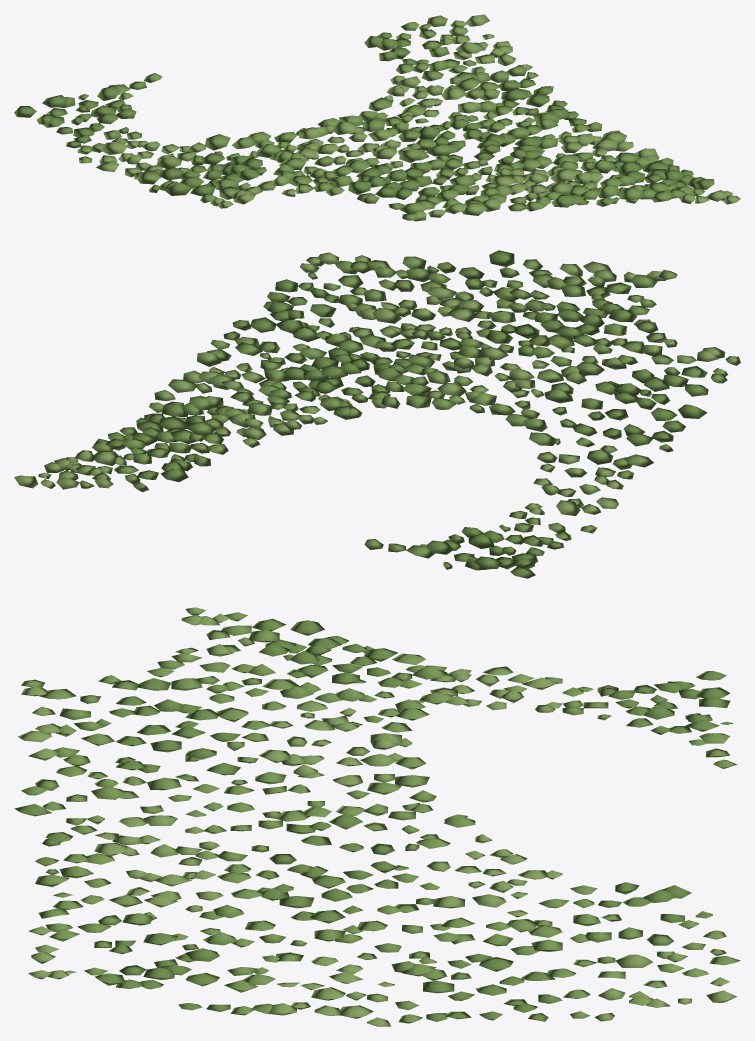
File: canopy-1--2--2.glb
3 views of the same model, one above another, from view 1: azimuth 30°, elevation 25°; view 2: azimuth 150°, elevation 25°; view 3: azimuth 270°, elevation 25° (orthographic). The views are drawn at different scales.
Bounding box in the file's own units: 518 × 105 × 520.
Materials: 1 (1 with a texture image).
